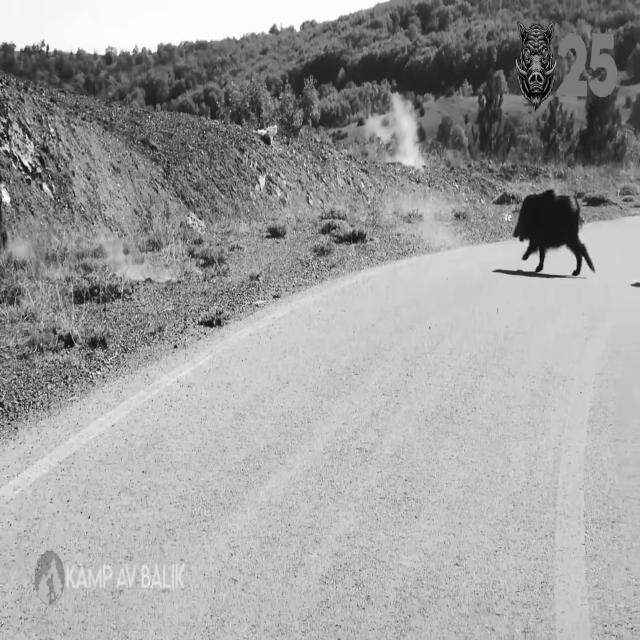boar: (513, 190, 594, 274), (517, 19, 558, 109)
